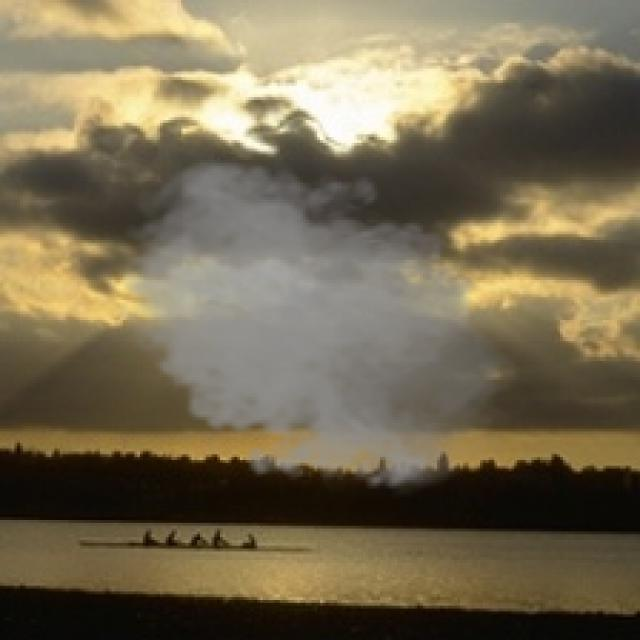Smoke: (109, 155, 532, 500)
